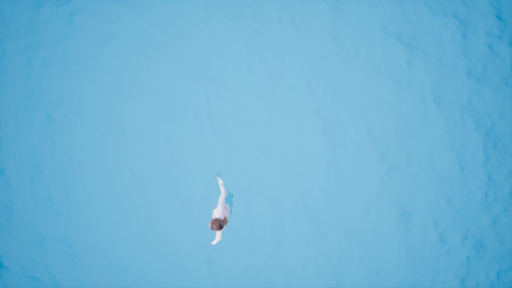person: (196, 171, 246, 249)
